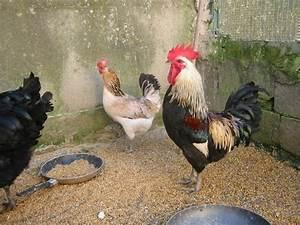hen: (161, 42, 264, 193), (95, 58, 161, 153)
